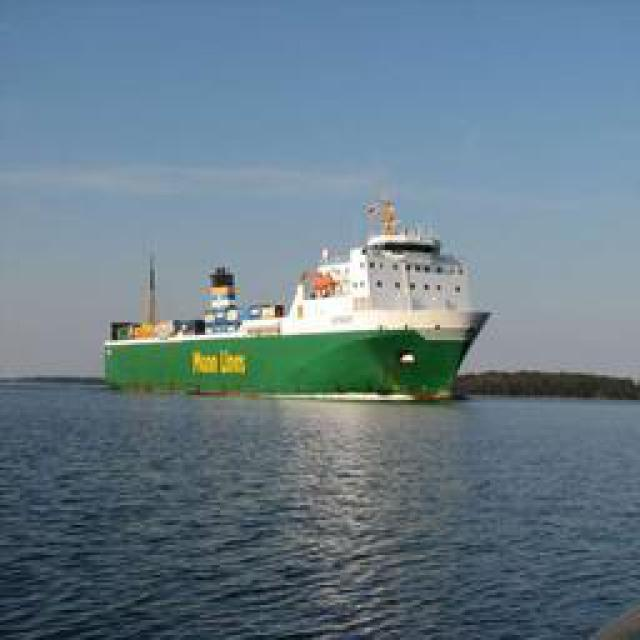Ship: (102, 198, 490, 396)
